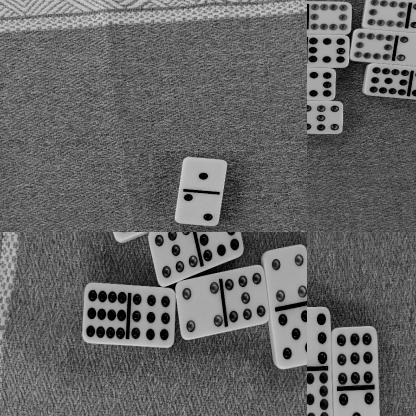pip-1: (183, 157, 228, 191)
pip-10: (350, 28, 396, 64), (307, 0, 353, 35), (362, 0, 409, 31)
pip-11: (364, 63, 410, 98), (307, 366, 332, 416)
pip-12: (83, 282, 128, 344)
pip-2: (175, 191, 222, 226)
pip-4: (176, 278, 224, 338), (264, 242, 307, 306), (397, 34, 416, 65)
pip-5: (276, 306, 307, 369), (333, 387, 381, 416)
pip-6: (307, 305, 331, 368)
pip-7: (224, 263, 271, 325), (148, 232, 197, 285), (307, 101, 344, 134)
pip-8: (307, 34, 350, 68), (197, 232, 245, 262), (307, 68, 337, 101)
pip-9: (129, 286, 176, 350), (333, 326, 380, 387)
